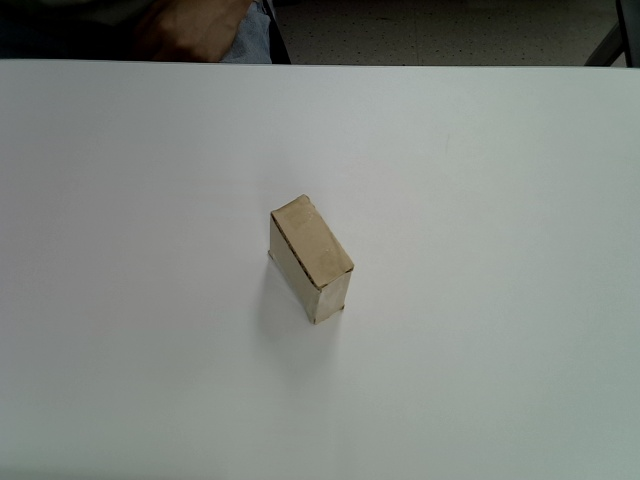normal: (267, 194, 356, 325)
